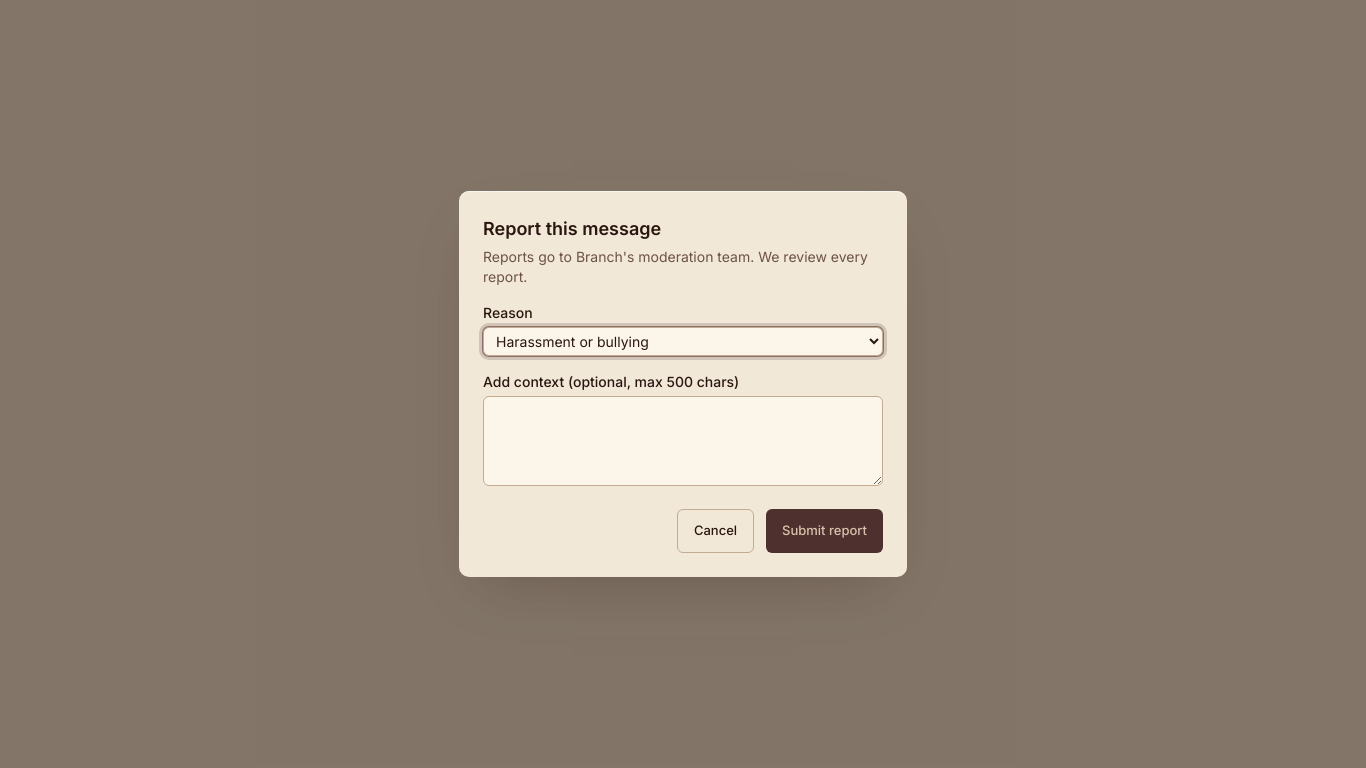
Scenario: ReportDialog › posts to /api/reports with the structured shape
Select "Harassment or bullying" in the dropdown labelled "Reason" at (683, 342), box left=483, top=327, right=883, bottom=356
Type "they keep insulting people" into the text box labelled "Add context (optional, max 500 chars)".
click(683, 441); type("they keep insulting people")  # box left=483, top=396, right=883, bottom=486
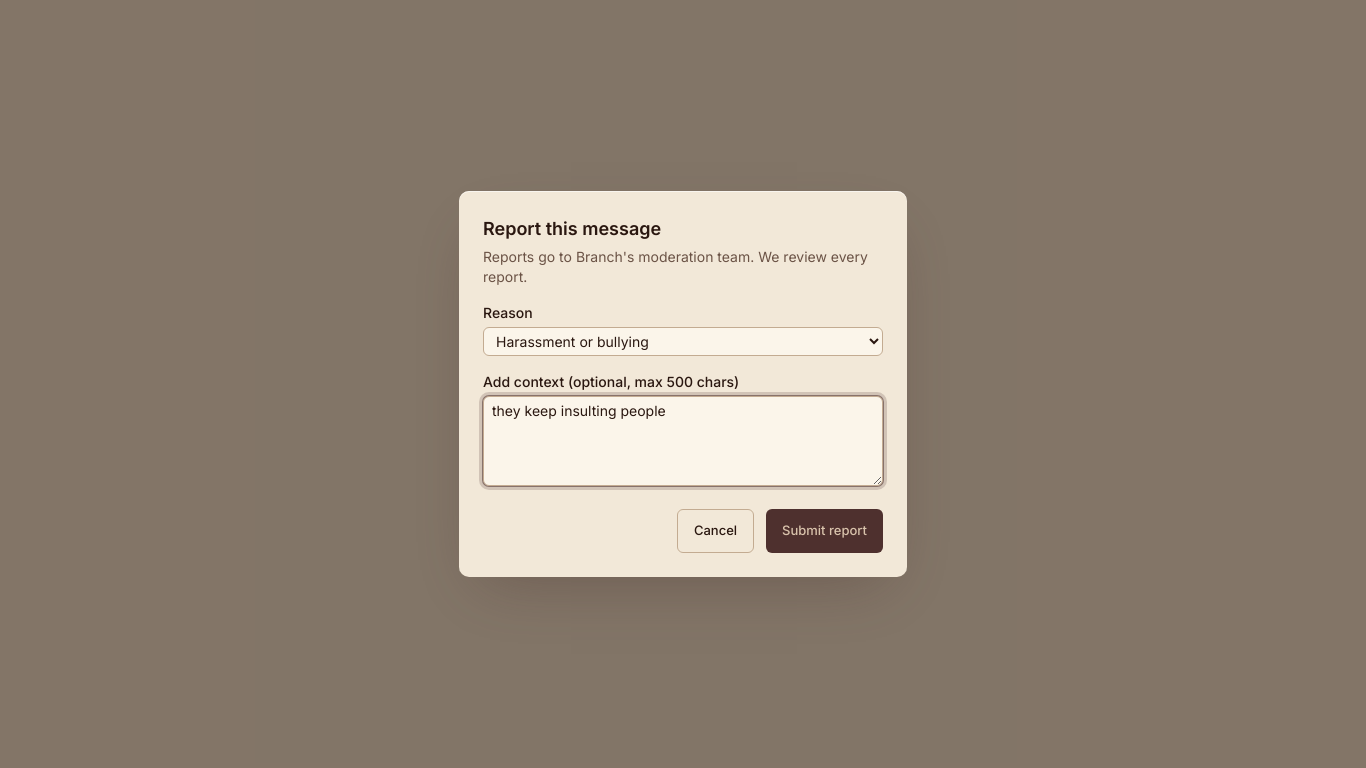
Click the button "Submit report".
click(824, 531)  # box left=766, top=509, right=883, bottom=553
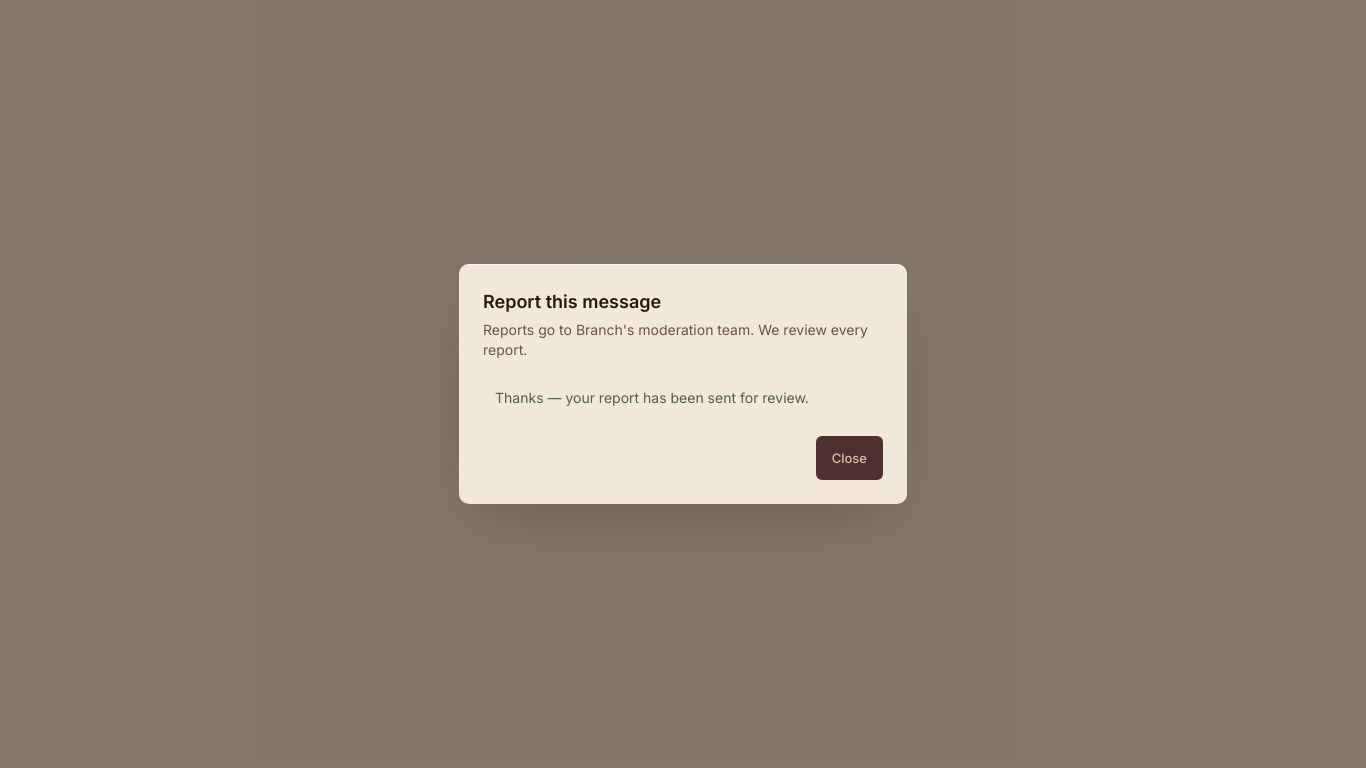
Now the text "Thanks — your report has been sent for review." is shown, box left=495, top=389, right=809, bottom=406
